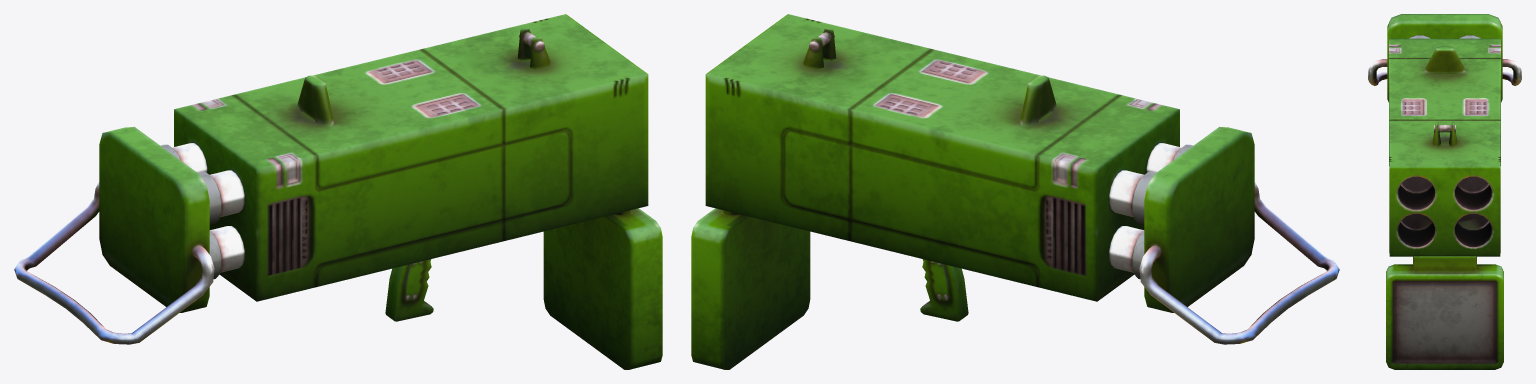
File: quadrocket.fbx
3 views of the same model, side by side, from view 1: azimuth 30°, elevation 25°; view 2: azimuth 150°, elevation 25°; view 3: azimuth 270°, elevation 25° (orthographic). The views are drawn at different scales.
Visible parts, largest first — view 1: quadrocket, quadrocketderierre_low, quadrocketdevant_low; view 2: quadrocket, quadrocketderierre_low, quadrocketdevant_low; view 3: quadrocket, quadrocketdevant_low, quadrocketderierre_low.
Part boxes in pixels (<box>): quadrocket: <box>174,14,648,321</box>; quadrocketderierre_low: <box>14,126,244,344</box>; quadrocketdevant_low: <box>543,208,662,369</box>; quadrocket: <box>705,14,1179,321</box>; quadrocketderierre_low: <box>1109,126,1339,344</box>; quadrocketdevant_low: <box>691,208,810,369</box>; quadrocket: <box>1389,38,1500,256</box>; quadrocketdevant_low: <box>1386,256,1503,369</box>; quadrocketderierre_low: <box>1368,14,1521,102</box>.
Size of the model in its own units: 0.8529 by 0.4764 by 0.2997.
